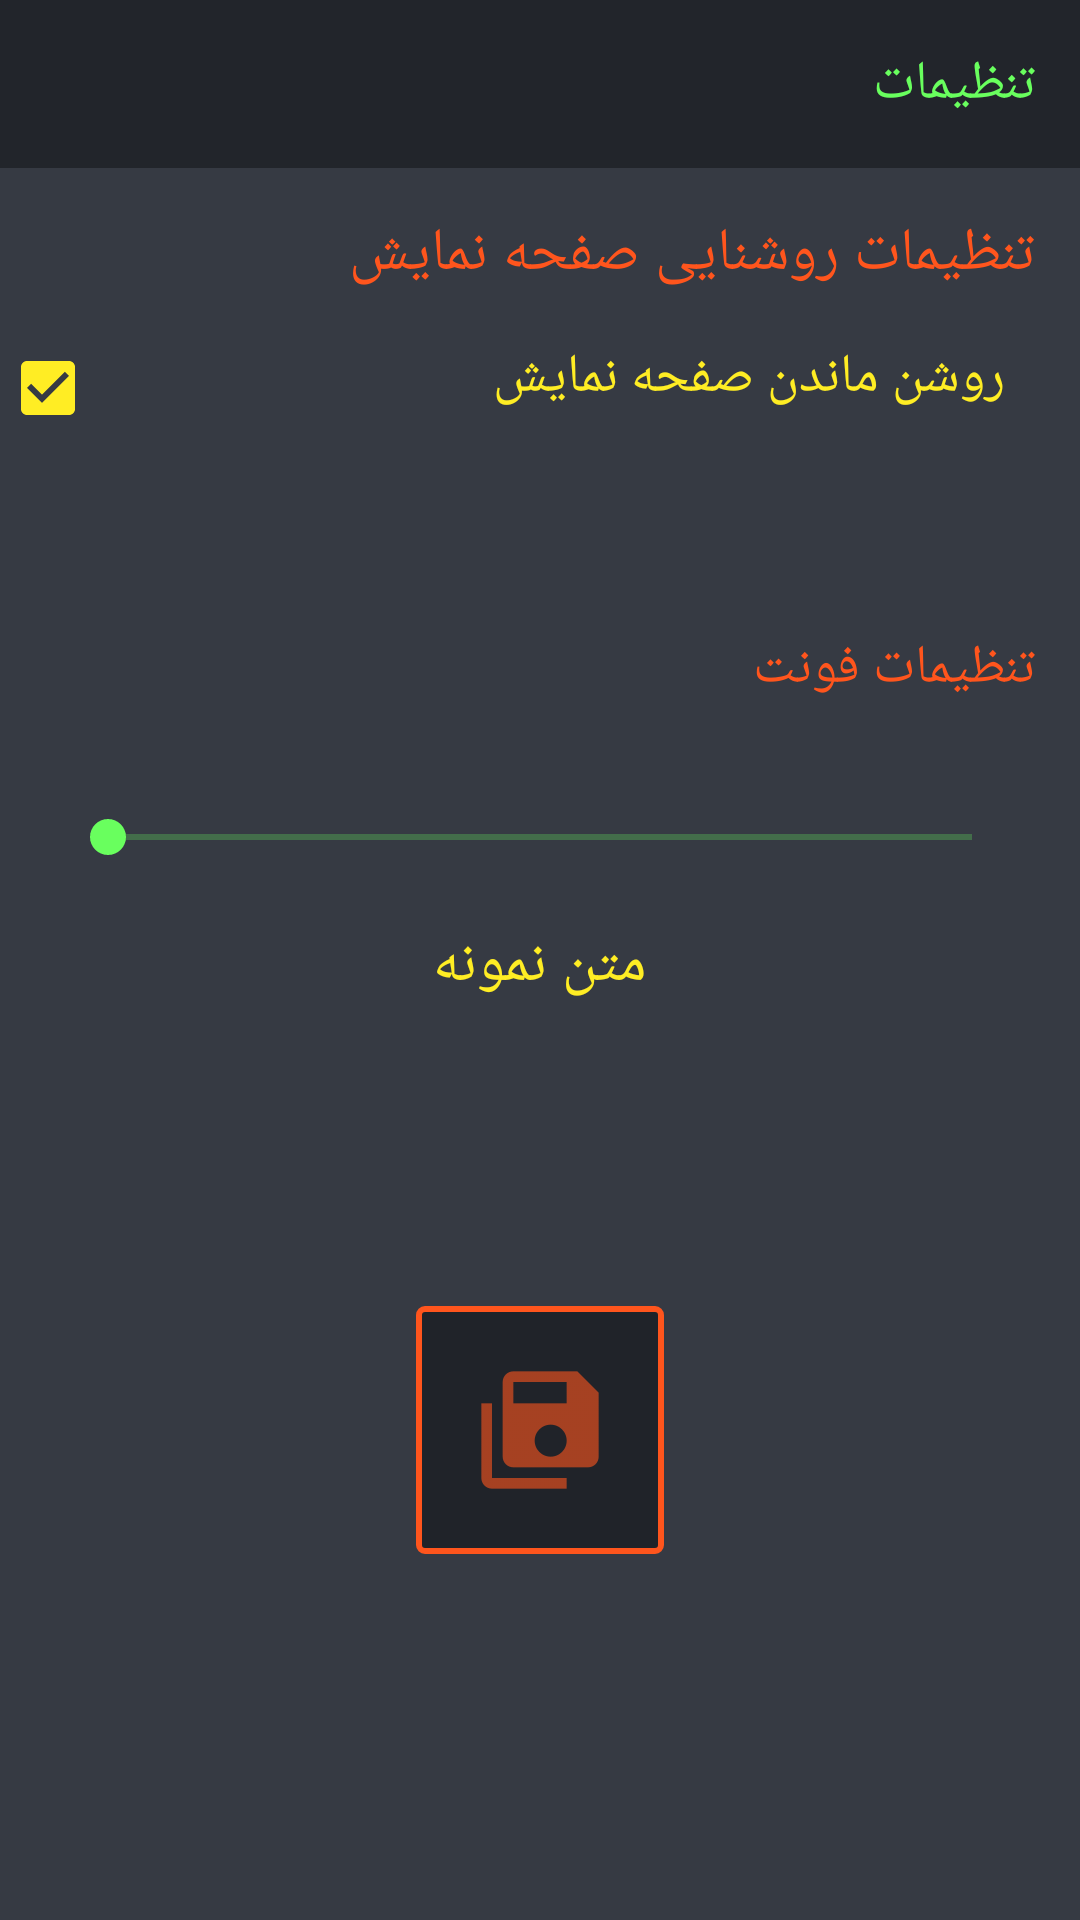

Screen size 1080 × 1920. Icon name, then its box in pixels as bbox(x1, y1, x2, y2):
save all: bbox(416, 1306, 664, 1554)
